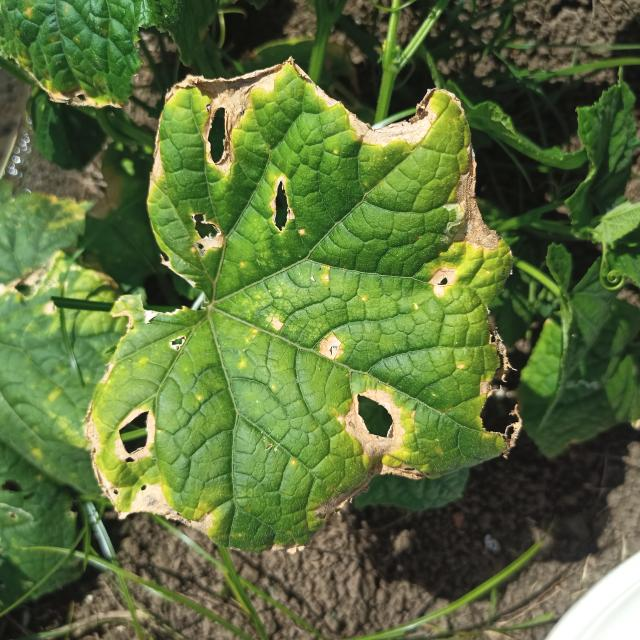disease_cucumber: (82, 52, 522, 552)
